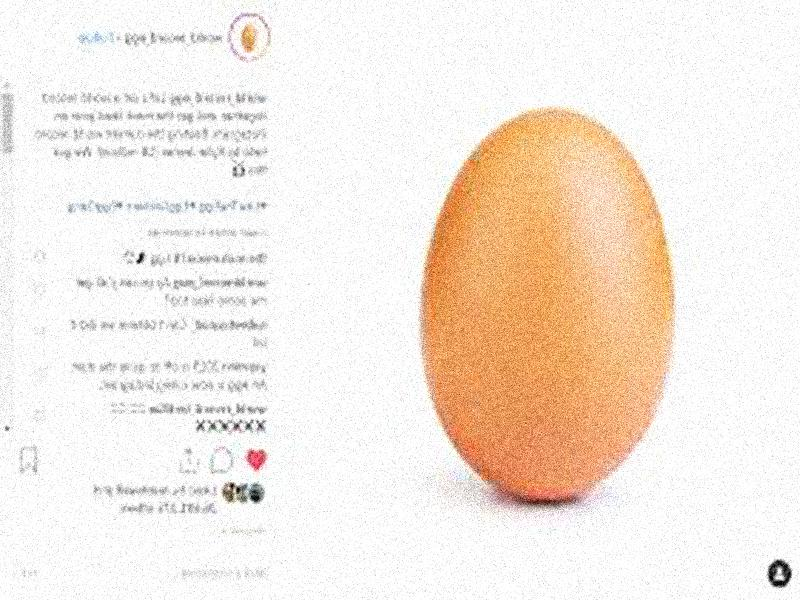Eggs: (420, 110, 674, 497)
